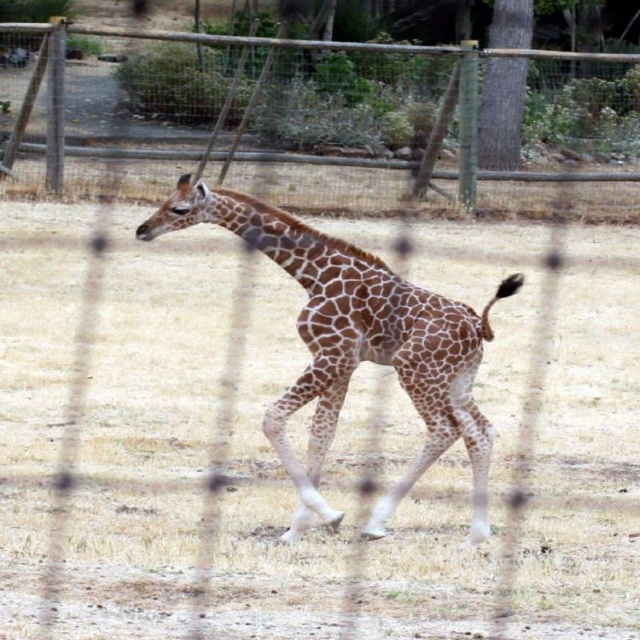Giraffe: (133, 144, 532, 546)
